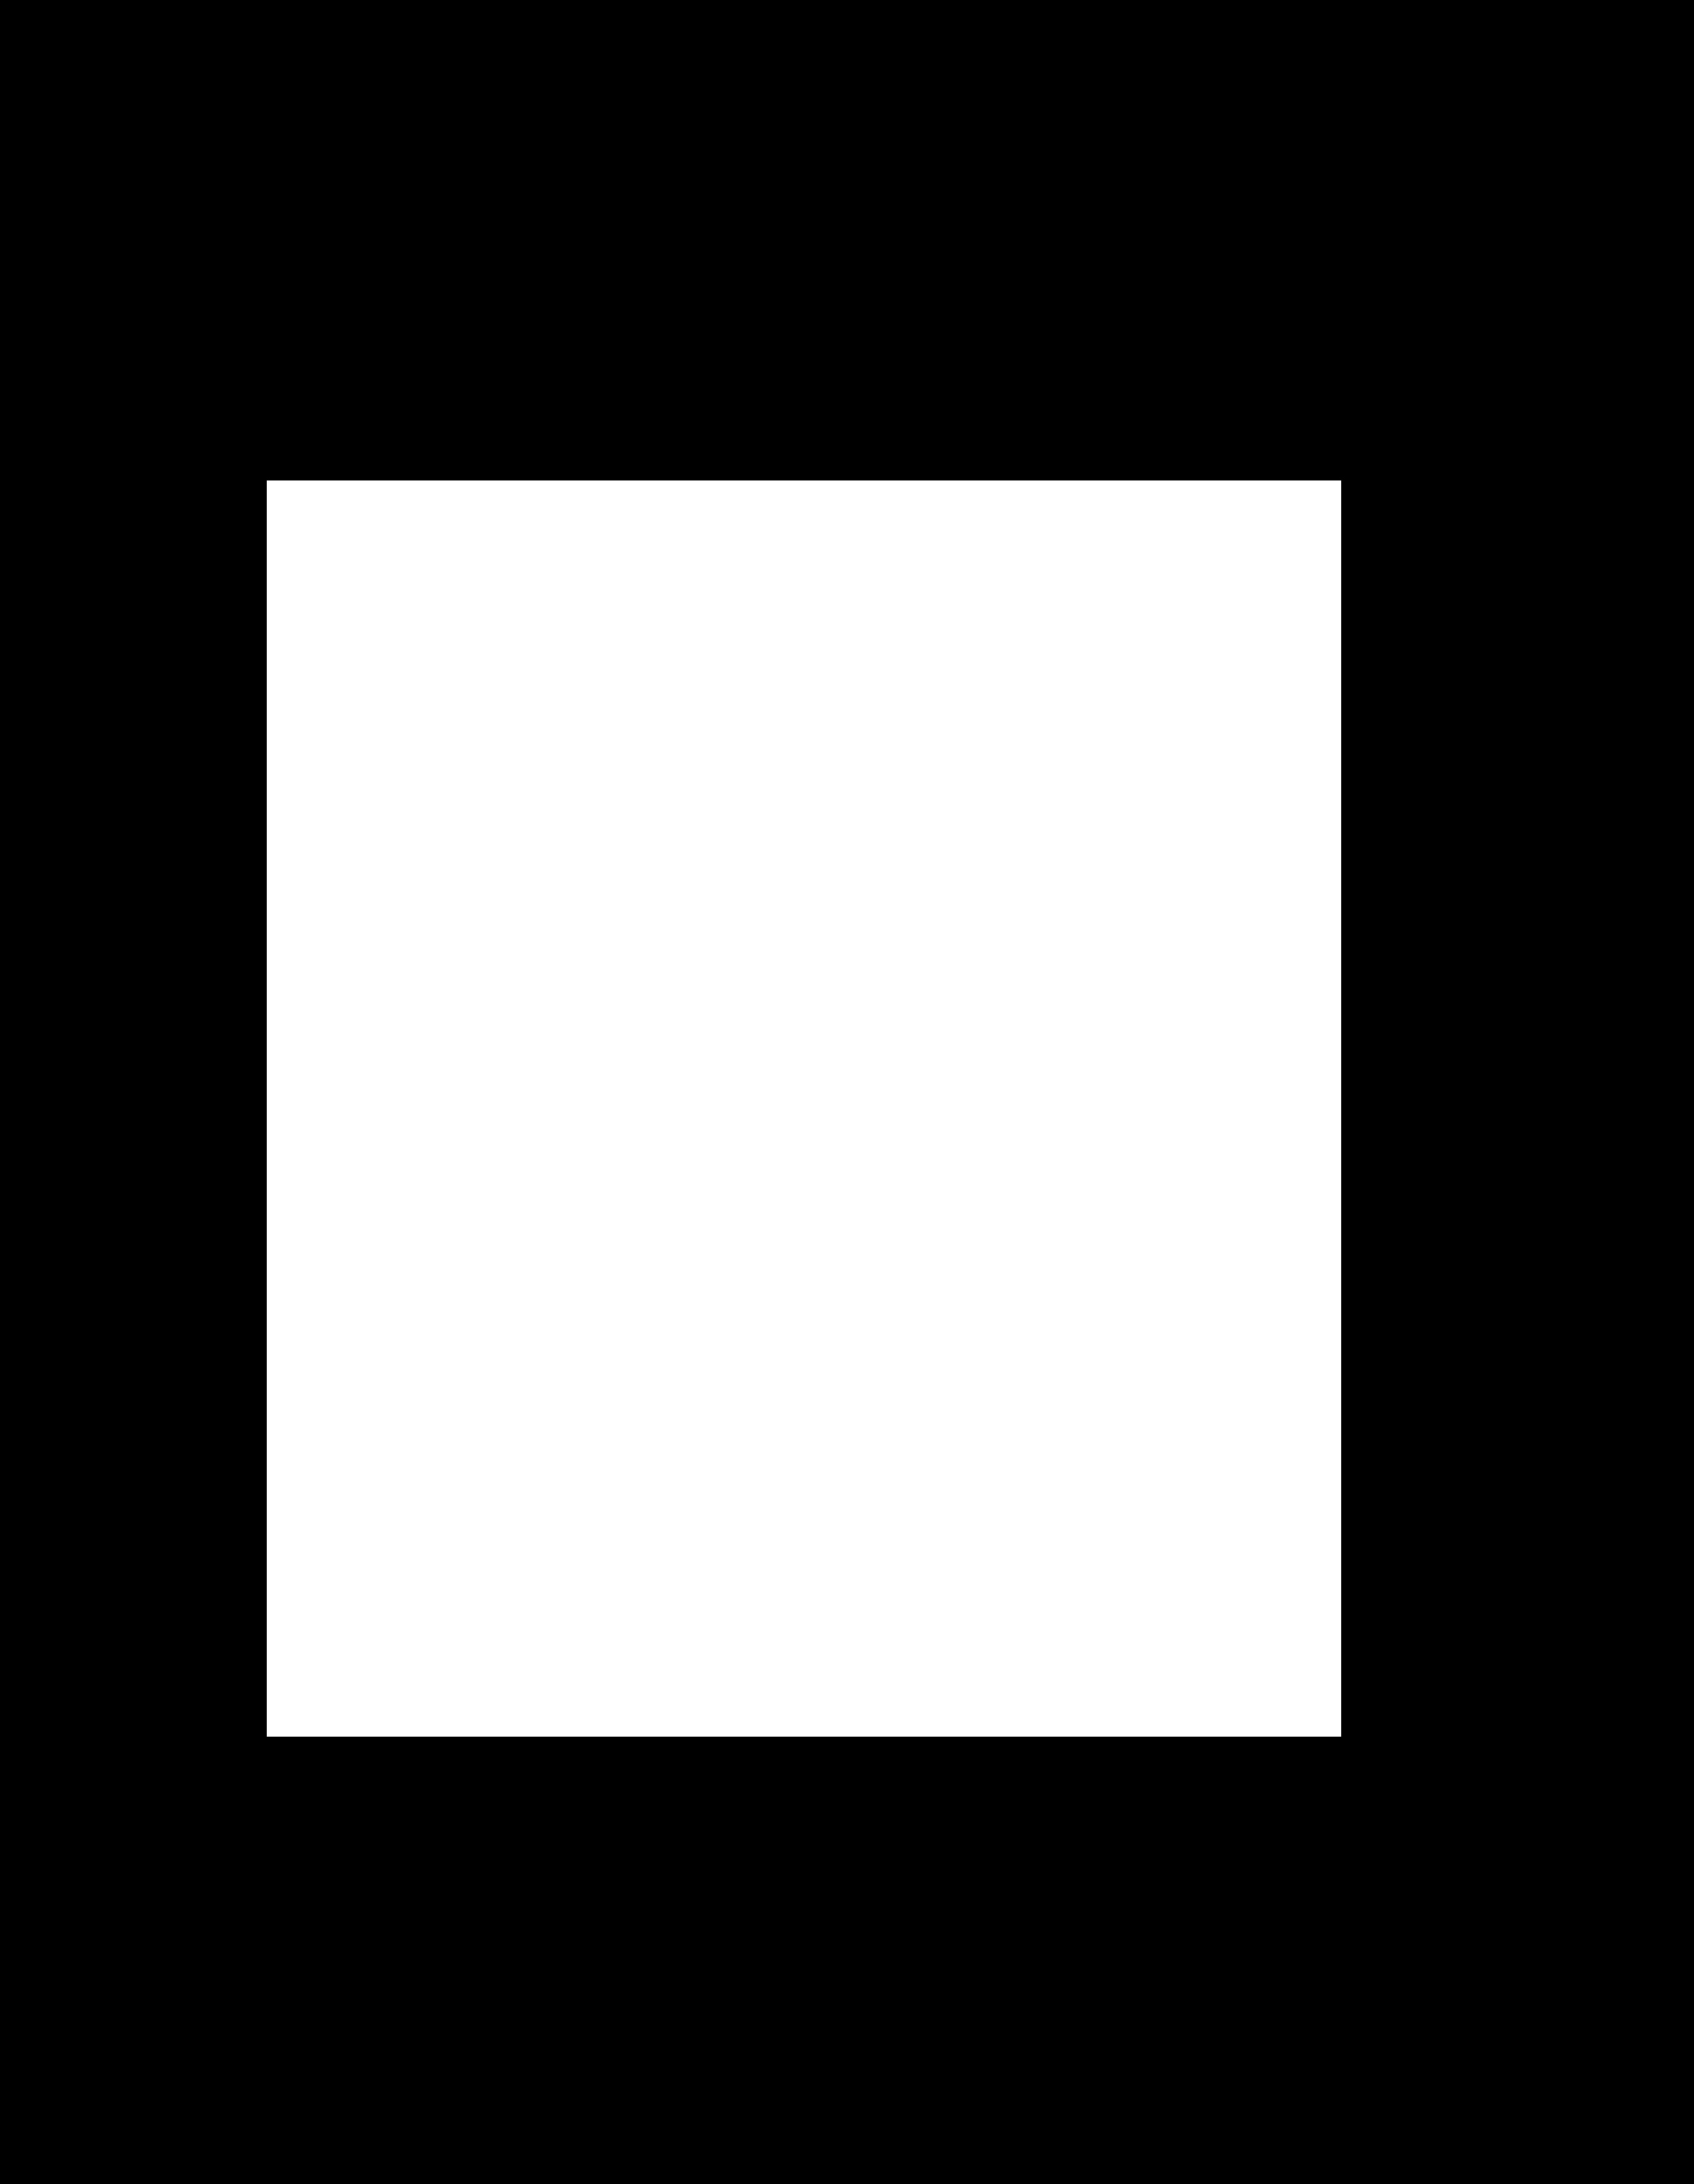table: (266, 480, 1341, 1735)
